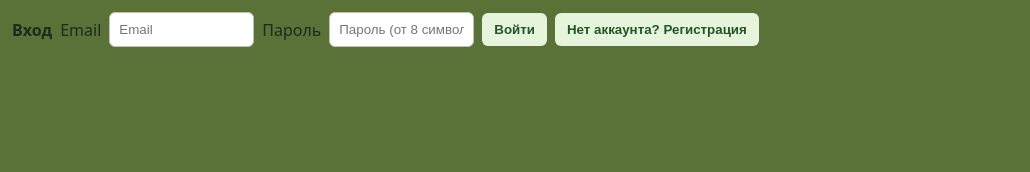
Форма входа — MSW › не отправляет невалидный ввод ()
Click the button "Войти" at [515, 30], box x1=482 y1=13 x2=547 y2=46
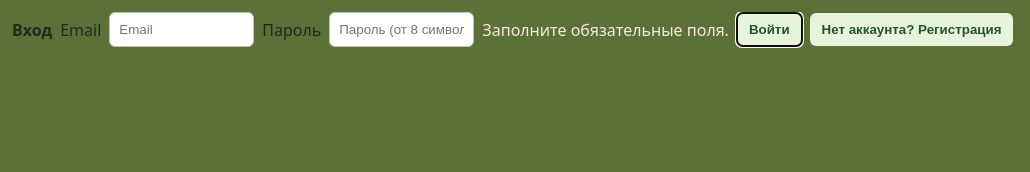
Expected: the message shows "Заполните", x1=482 y1=18 x2=729 y2=40
